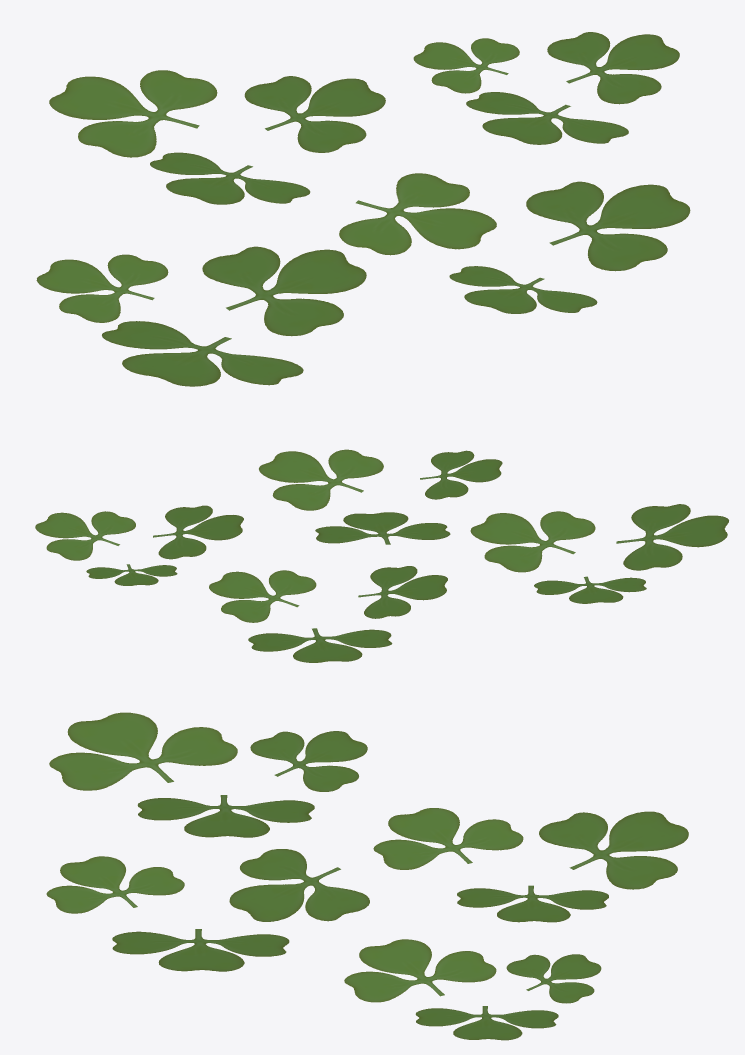
File: Plant05.glb
3 views of the same model, one above another, from view 1: azimuth 30°, elevation 25°; view 2: azimuth 150°, elevation 25°; view 3: azimuth 270°, elevation 25° (orthographic). The views are drawn at different scales.
Visible parts, largest first — view 1: plant05; view 2: plant05; view 3: plant05.
Boxes of the visible parts, x1=… form: plant05: x1=36, y1=32, x2=690, y2=386; plant05: x1=35, y1=449, x2=728, y2=662; plant05: x1=46, y1=712, x2=688, y2=1040.
Bounding box in the file's own units: 0.7178 × 0.0182 × 0.6411.
Materials: 1 (1 with a texture image).
